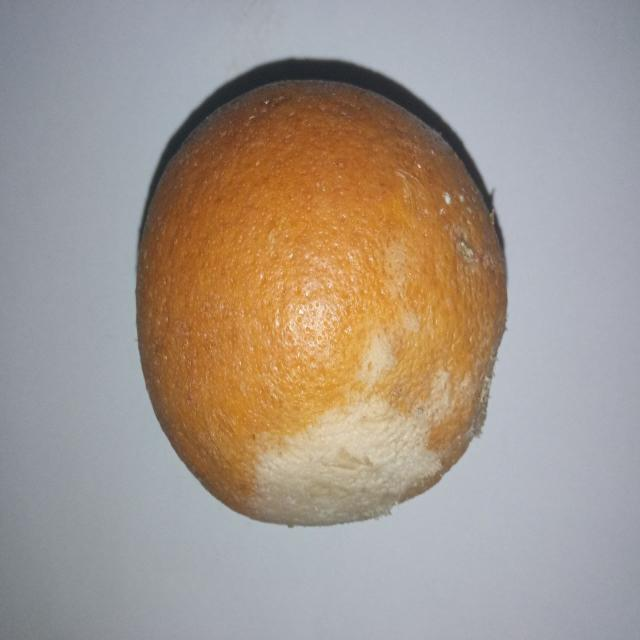rotten_orange: (136, 78, 504, 531)
